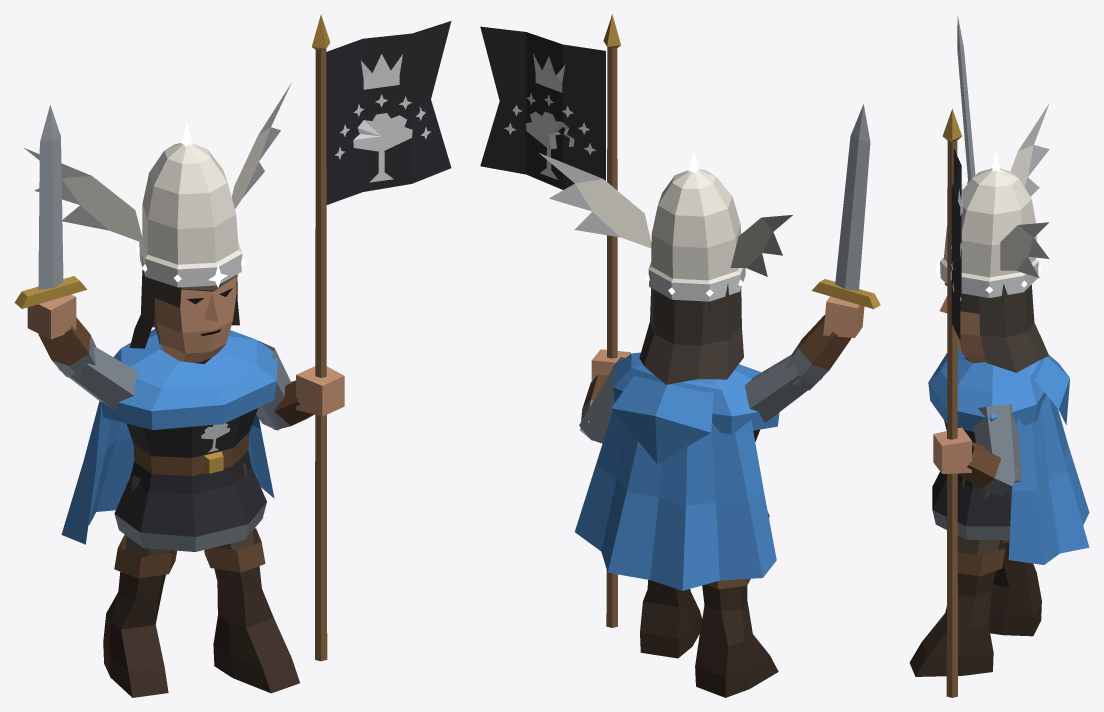
The model's file is aragorn-3.glb.
3 views of the same model, side by side, from view 1: azimuth 30°, elevation 25°; view 2: azimuth 150°, elevation 25°; view 3: azimuth 270°, elevation 25° (orthographic). The views are drawn at different scales.
Visible parts, largest first — view 1: aragorn-3; view 2: aragorn-3; view 3: aragorn-3.
Part boxes in pixels (x1,y1,x2,y2): aragorn-3: [14, 14, 451, 697]; aragorn-3: [480, 14, 880, 697]; aragorn-3: [909, 15, 1089, 697].
Bounding box in the file's own units: 1.45 × 2.1 × 0.5838.
